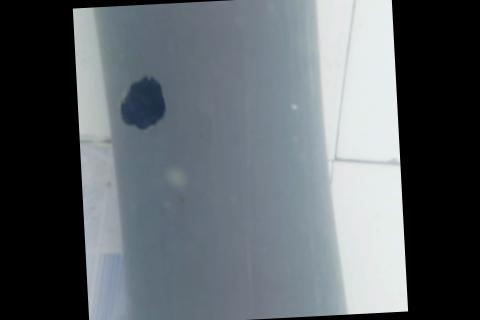kebocoran: (115, 73, 168, 132)
